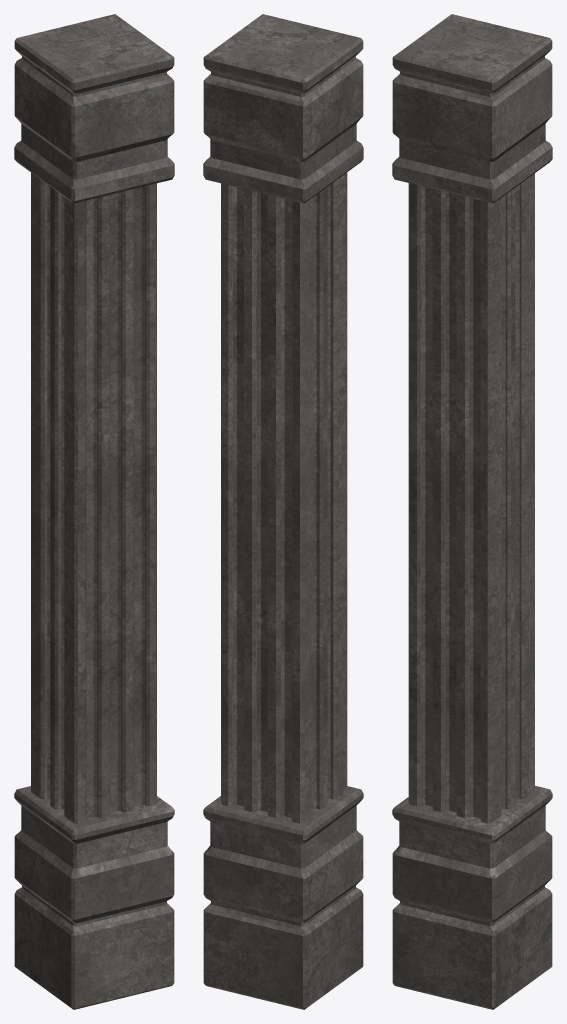
File: SK6 PILLAR.fbx
The picture shows the model from 3 angles, left to right: view 1: azimuth 30°, elevation 25°; view 2: azimuth 150°, elevation 25°; view 3: azimuth 330°, elevation 25°; orthographic projection.
Parts seen in each view (by area): view 1: SK6 PILLAR; view 2: SK6 PILLAR; view 3: SK6 PILLAR.
Boxes of the visible parts, x1,y1,x2,y2 form: SK6 PILLAR: (14, 14, 174, 1009); SK6 PILLAR: (203, 14, 363, 1009); SK6 PILLAR: (392, 14, 552, 1009).
Bounding box in the file's own units: 46.42 × 400 × 46.42.
